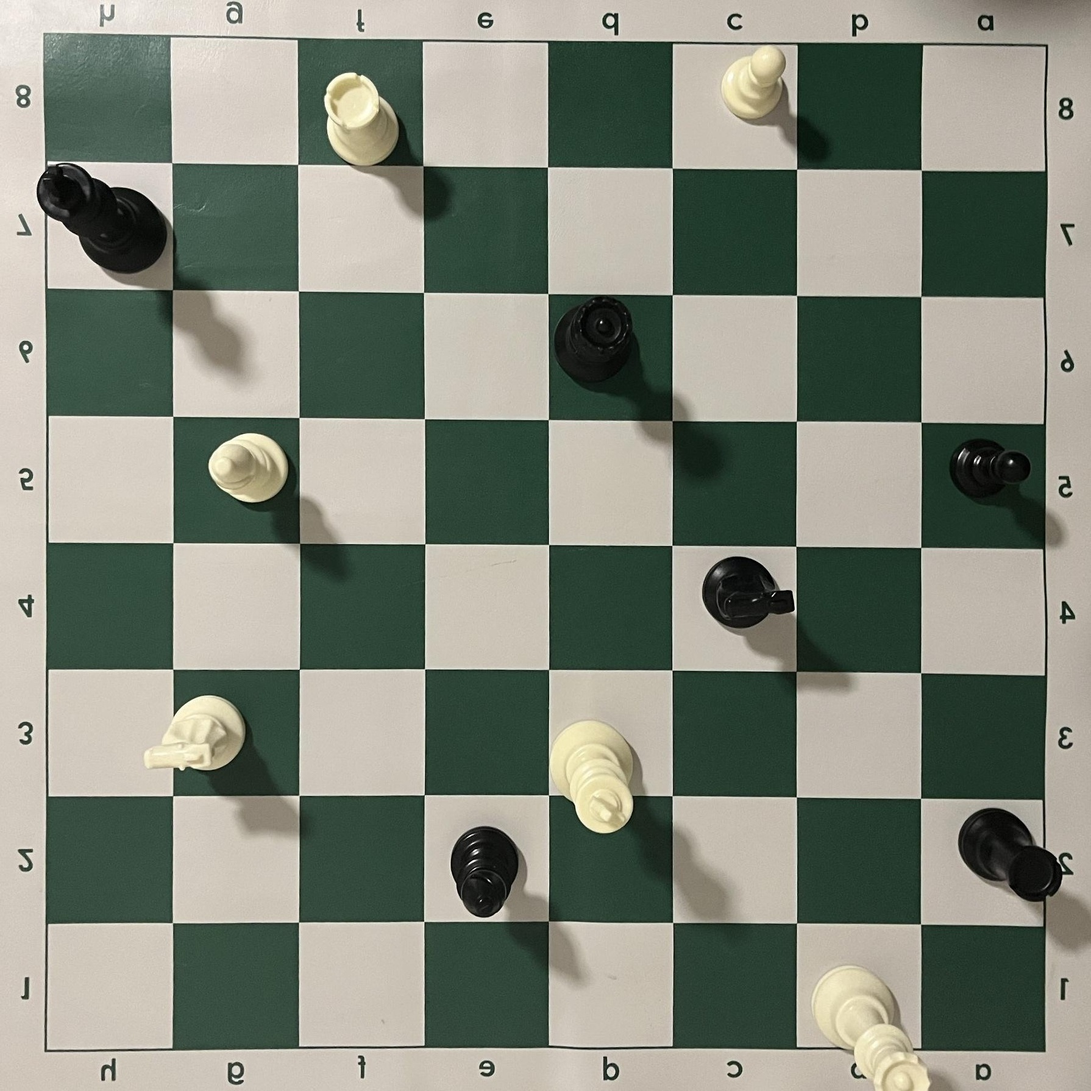black_bishop: (450, 826, 519, 919)
black_king: (37, 163, 168, 274)
black_knight: (702, 556, 795, 628)
black_pawn: (948, 438, 1032, 499)
black_queen: (554, 296, 634, 383)
black_rook: (958, 808, 1064, 902)
white_bishop: (208, 433, 290, 503)
white_king: (549, 719, 634, 834)
white_knight: (144, 694, 247, 773)
white_pawn: (720, 45, 787, 119)
white_queen: (812, 965, 931, 1091)
white_rook: (324, 72, 400, 167)
